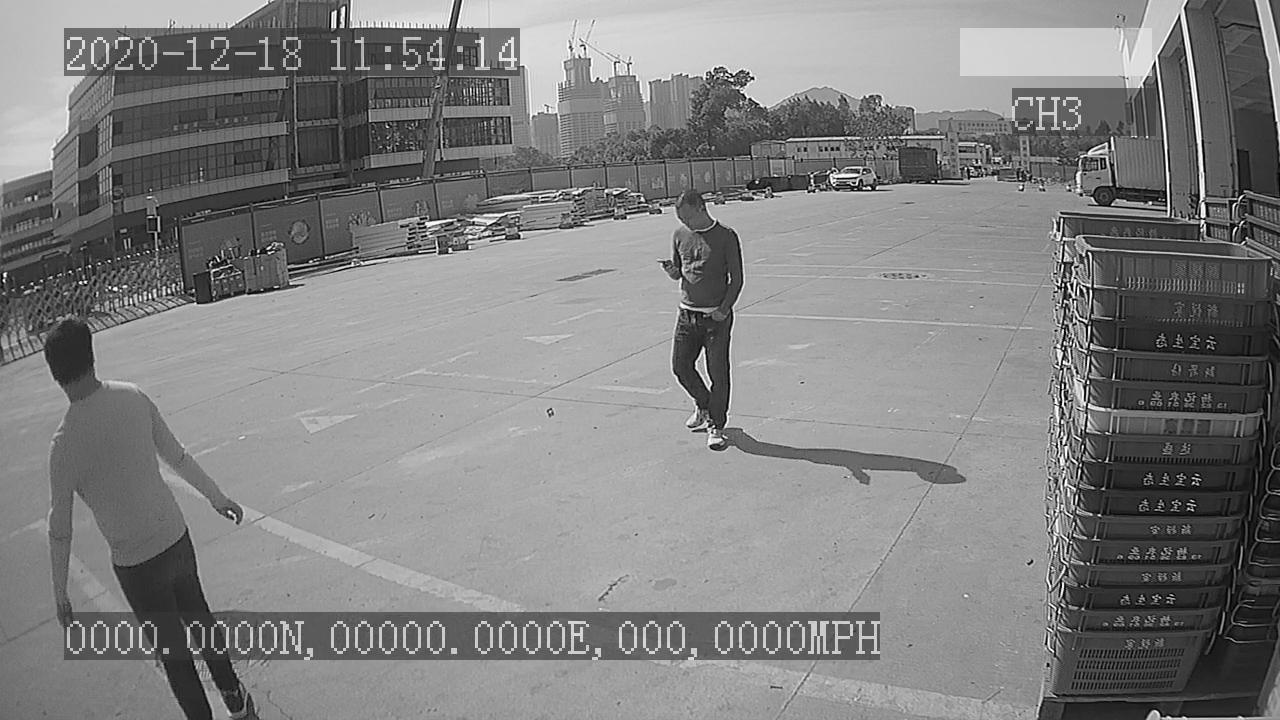person: (654, 186, 751, 447)
